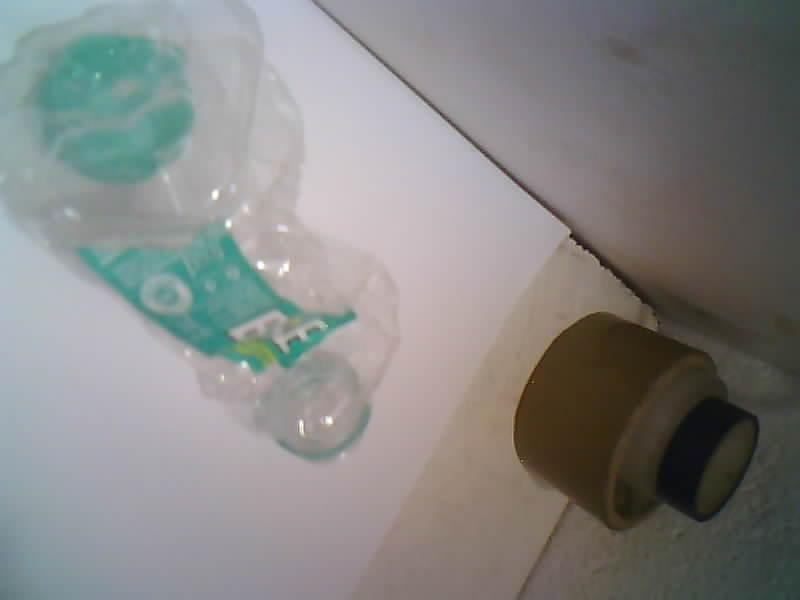non-biodegradable: (0, 0, 396, 460)
